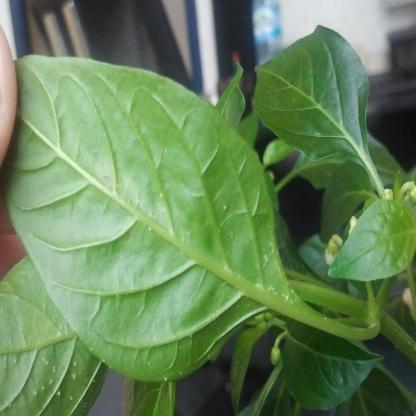Bell_pepper leaf spot: (3, 33, 292, 377), (250, 21, 376, 172), (320, 196, 416, 284)
